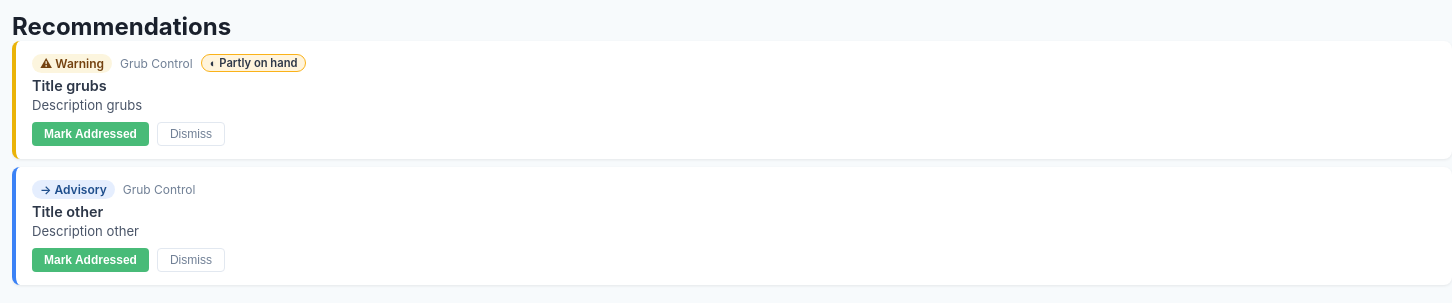
it: Recommendations page › Dismiss sends the flag with the current severity and moves the card to answered
The image size is (1452, 303).
Expected: the heading "Recommendations" is shown, 12,12 -> 231,41
Click the 1st button "Dismiss": x=191, y=134 157,122 -> 225,146
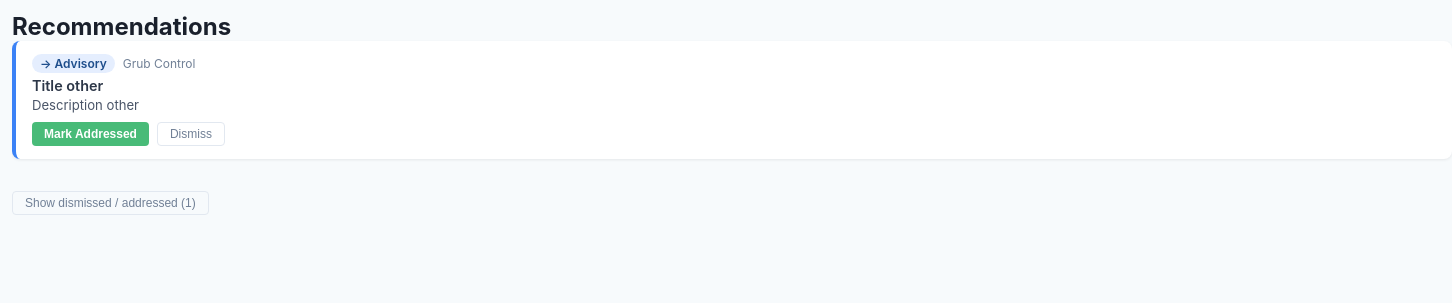
Result: the button "Show dismissed / addressed (1)" is shown at 12,191 -> 209,215
